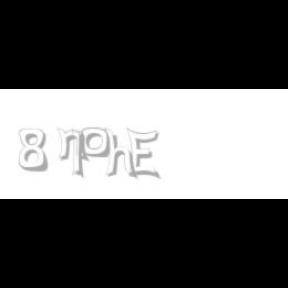8: (18, 128, 48, 172)
E: (126, 128, 160, 180)
h: (104, 128, 140, 180)
l: (72, 128, 88, 180)
n: (56, 128, 90, 162)
o: (80, 128, 110, 158)
